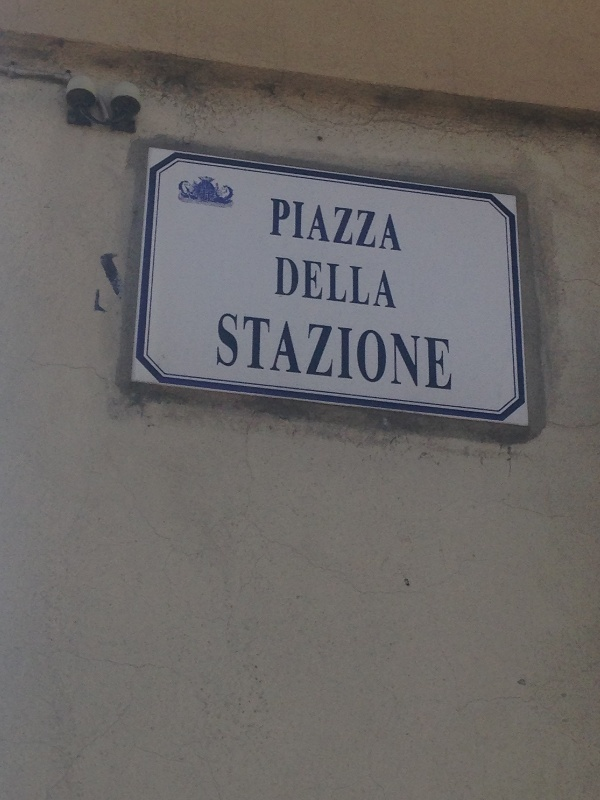text: (225, 311, 240, 394), (241, 311, 256, 394), (257, 311, 272, 394), (273, 311, 288, 394), (289, 311, 304, 394), (305, 311, 320, 394), (321, 311, 336, 394), (337, 311, 352, 394), (353, 311, 368, 394), (369, 311, 384, 394), (385, 311, 400, 394), (401, 311, 416, 394), (417, 311, 432, 394), (433, 311, 448, 394), (273, 196, 288, 253), (289, 196, 304, 253), (305, 196, 320, 253), (321, 196, 336, 253), (337, 196, 352, 253), (353, 196, 368, 253), (369, 196, 384, 253), (385, 196, 400, 253), (289, 255, 304, 311), (305, 255, 320, 311), (321, 255, 336, 311), (337, 255, 352, 311), (353, 255, 368, 311), (369, 255, 384, 311), (385, 255, 398, 311), (277, 255, 288, 311), (219, 311, 224, 394), (449, 311, 453, 394), (401, 196, 403, 253), (271, 196, 272, 253)
